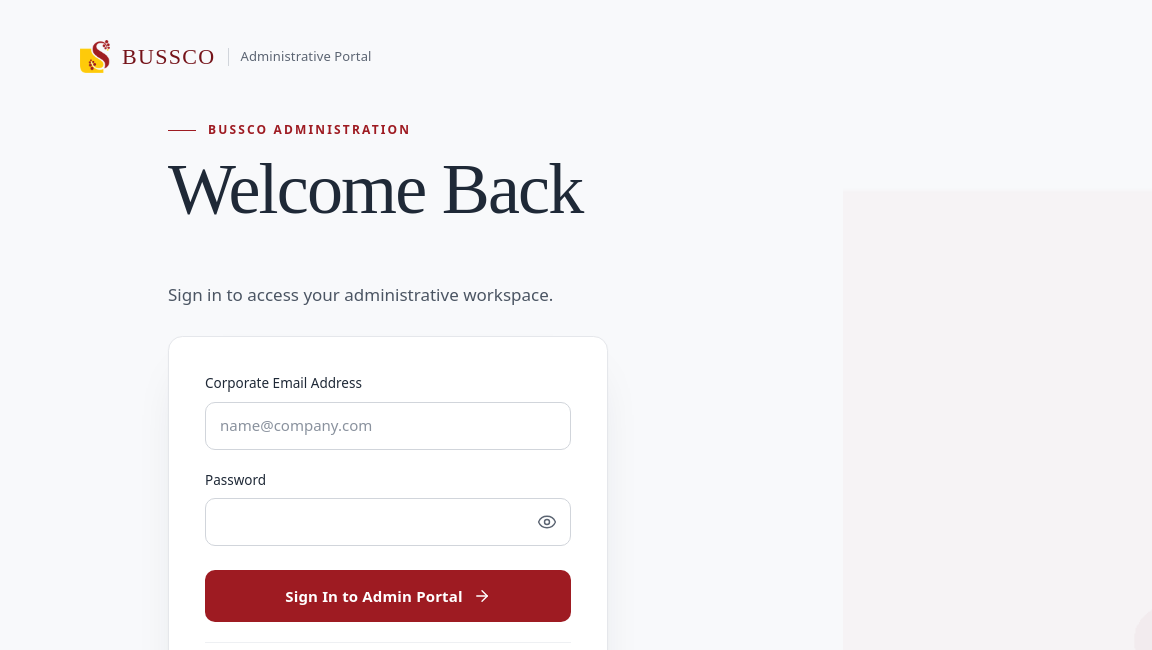
Test: AdminPasswordPage › sends a temporary-password sign-in straight to the password page, ignoring next
Type "root@example.com" into the field labelled "Corporate Email Address" at (388, 426), box [205,402,571,450]
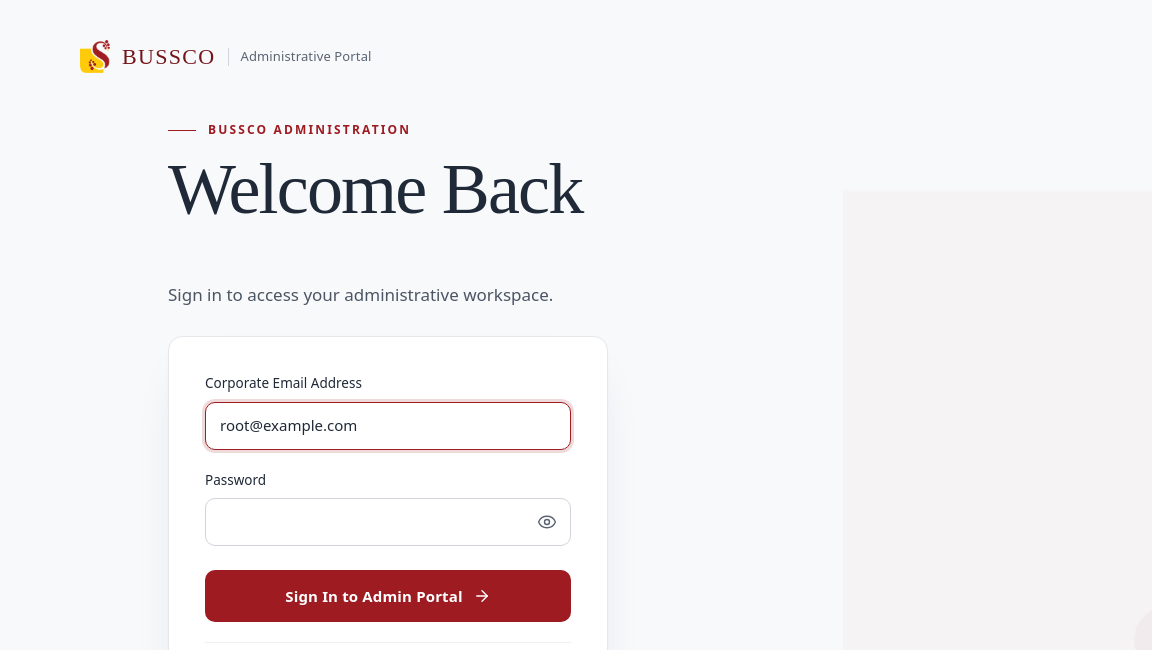
Type "TEMPORARY-password-1234" into the password field labelled "Password" at (388, 522), box [205,498,571,546]
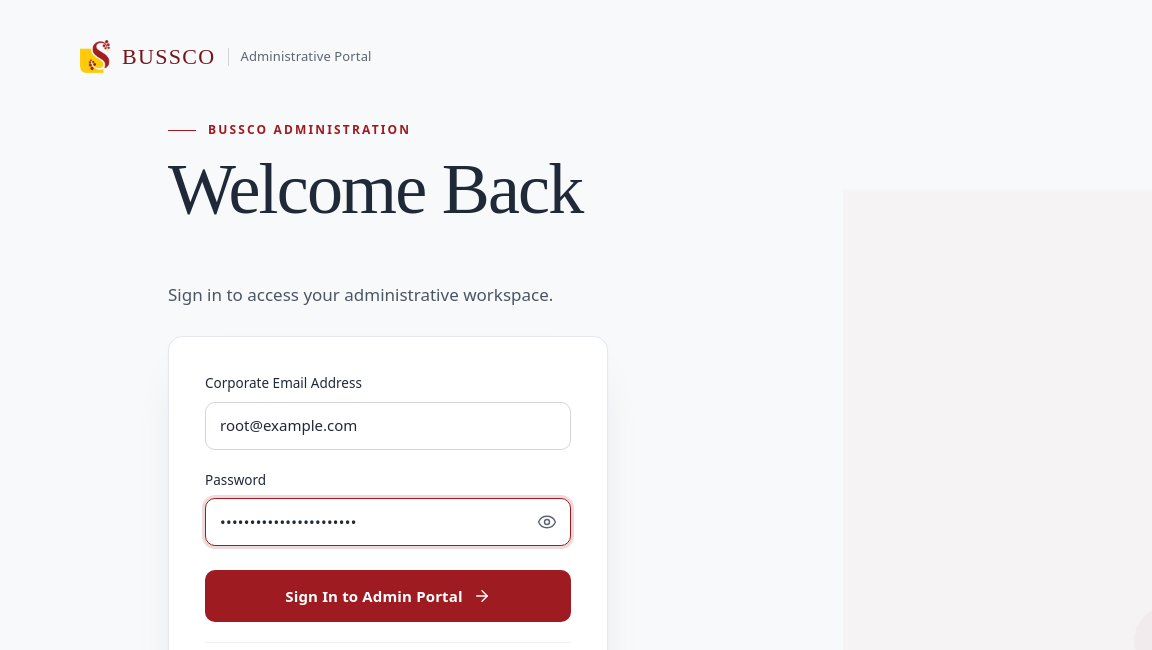
Click the button "Sign In to Admin Portal" at (388, 596), box [205,570,571,622]
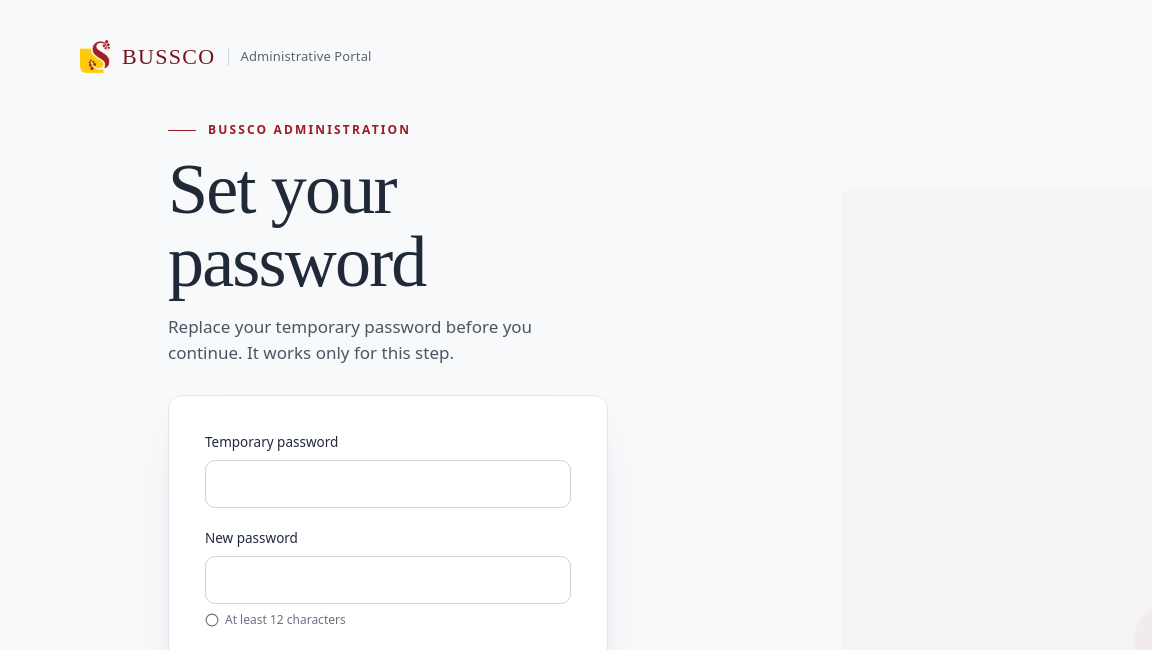
Check: the heading "Set your password" is shown, box [168,149,426,302]
